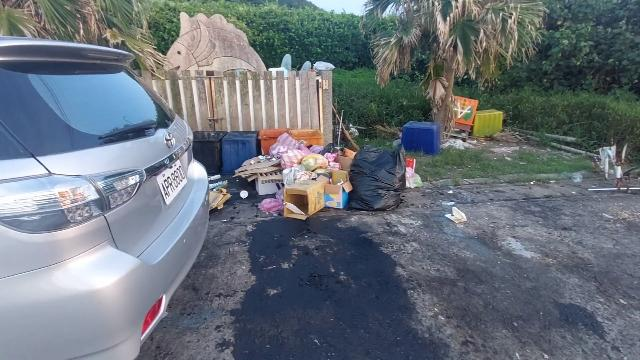pollute: (193, 119, 441, 221), (439, 95, 504, 149), (588, 140, 639, 194), (443, 207, 465, 224)
